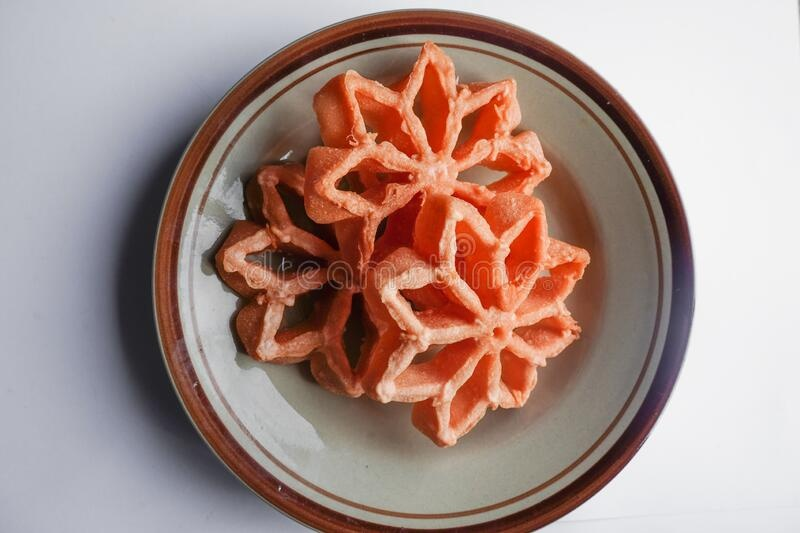kembang_goyang: (368, 205, 604, 454)
